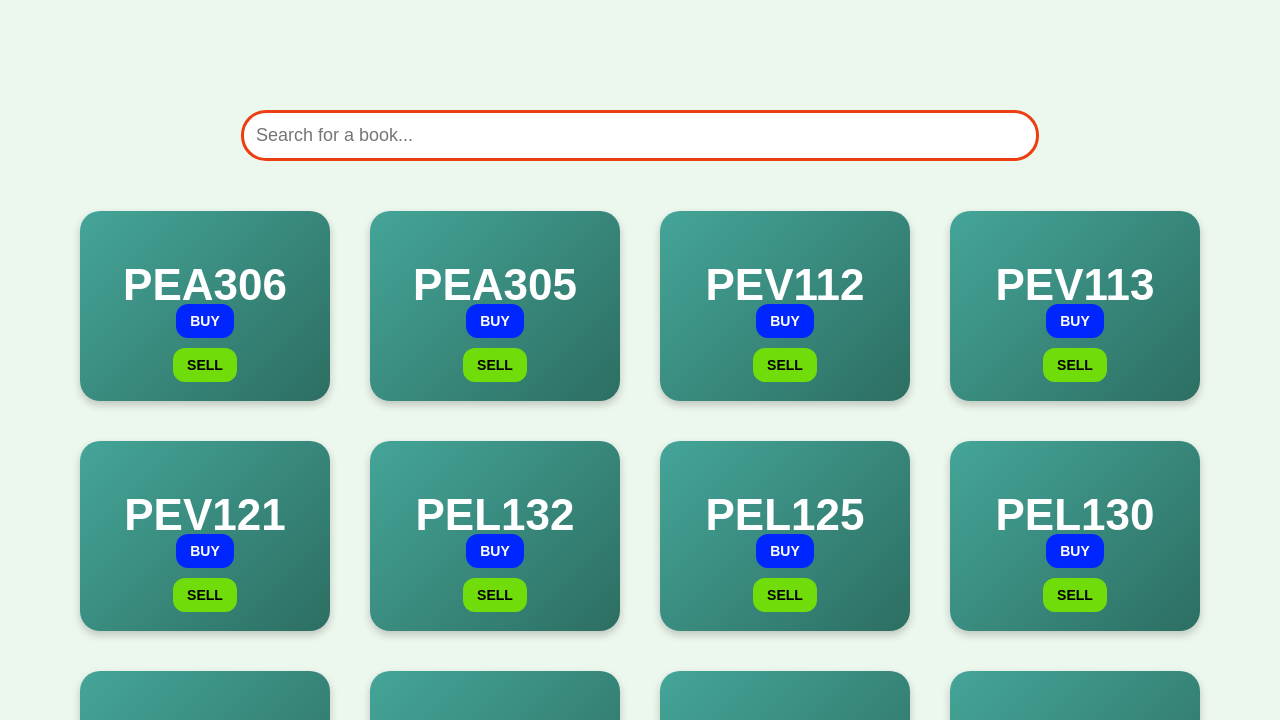
Test case: Body Component › submits user details and stores transaction data
Click the button "BUY" next to "PEA306" at x=205, y=321, box x1=176 y1=304 x2=234 y2=338
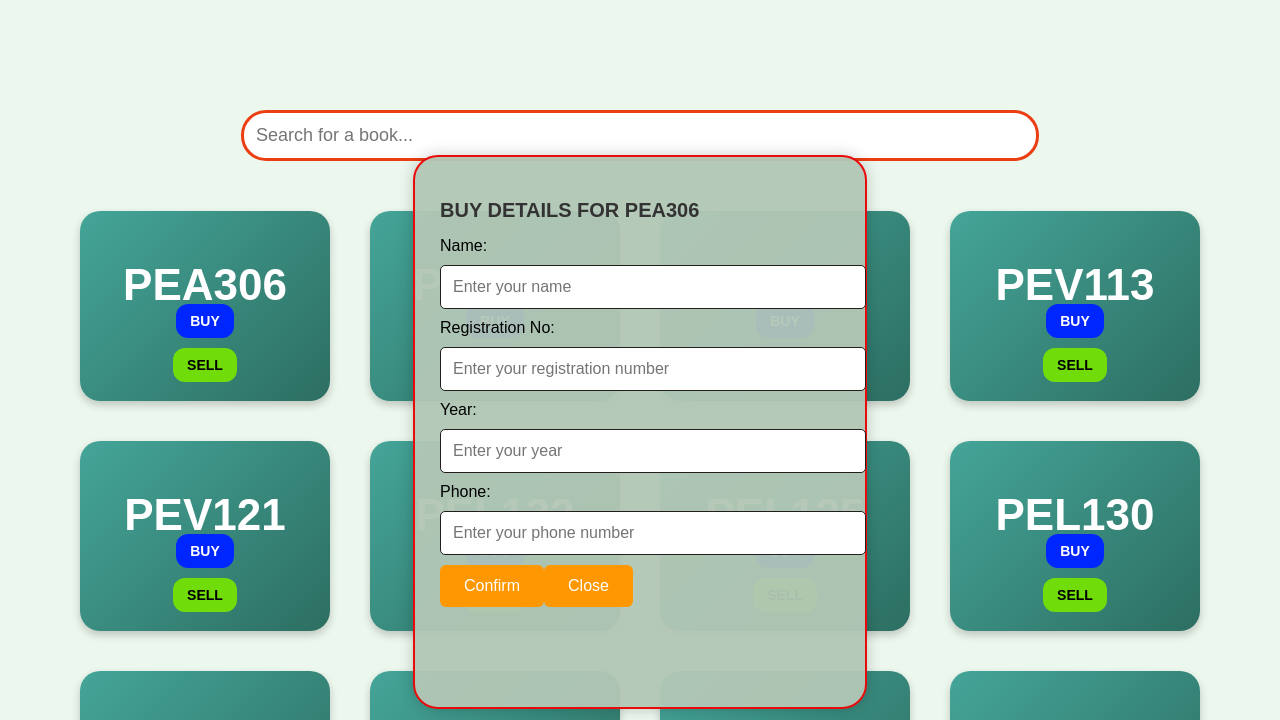
Note: Fill user input fields
Type "John Doe" into the field with placeholder "Enter your name" at x=653, y=287, box x1=440 y1=265 x2=866 y2=309
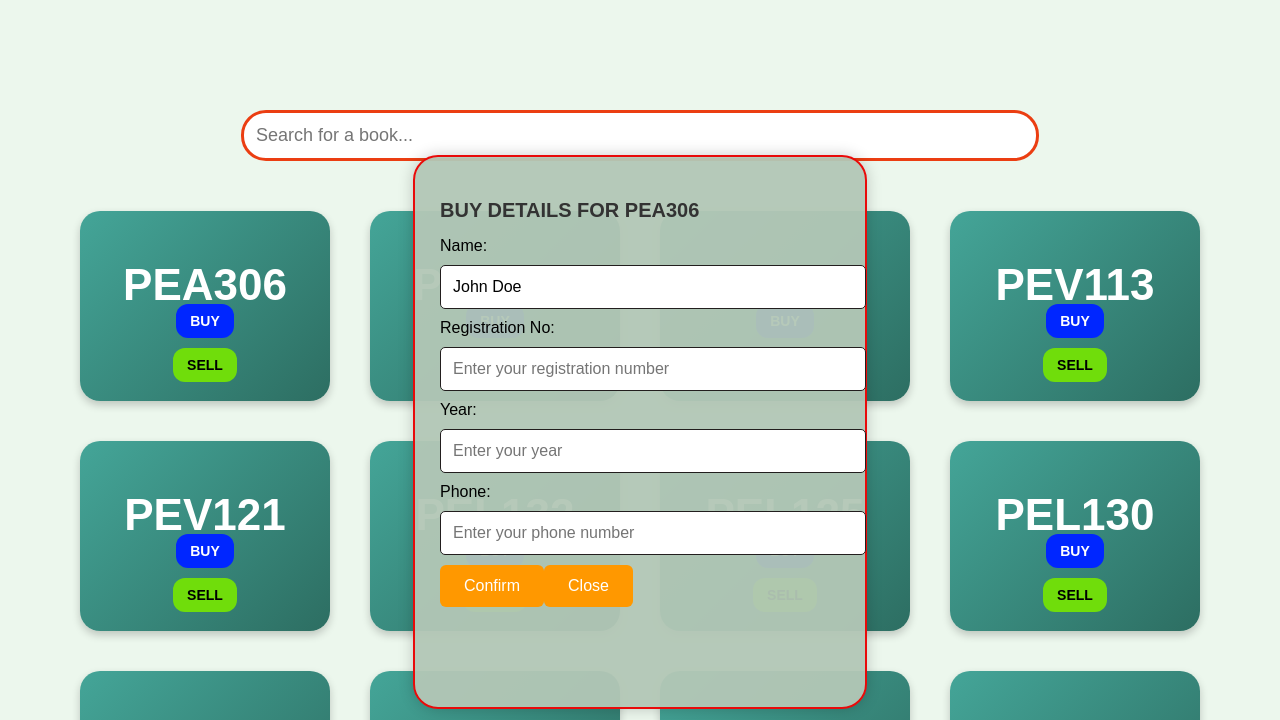
Type "12345" into the field with placeholder "Enter your registration number" at x=653, y=369, box x1=440 y1=347 x2=866 y2=391
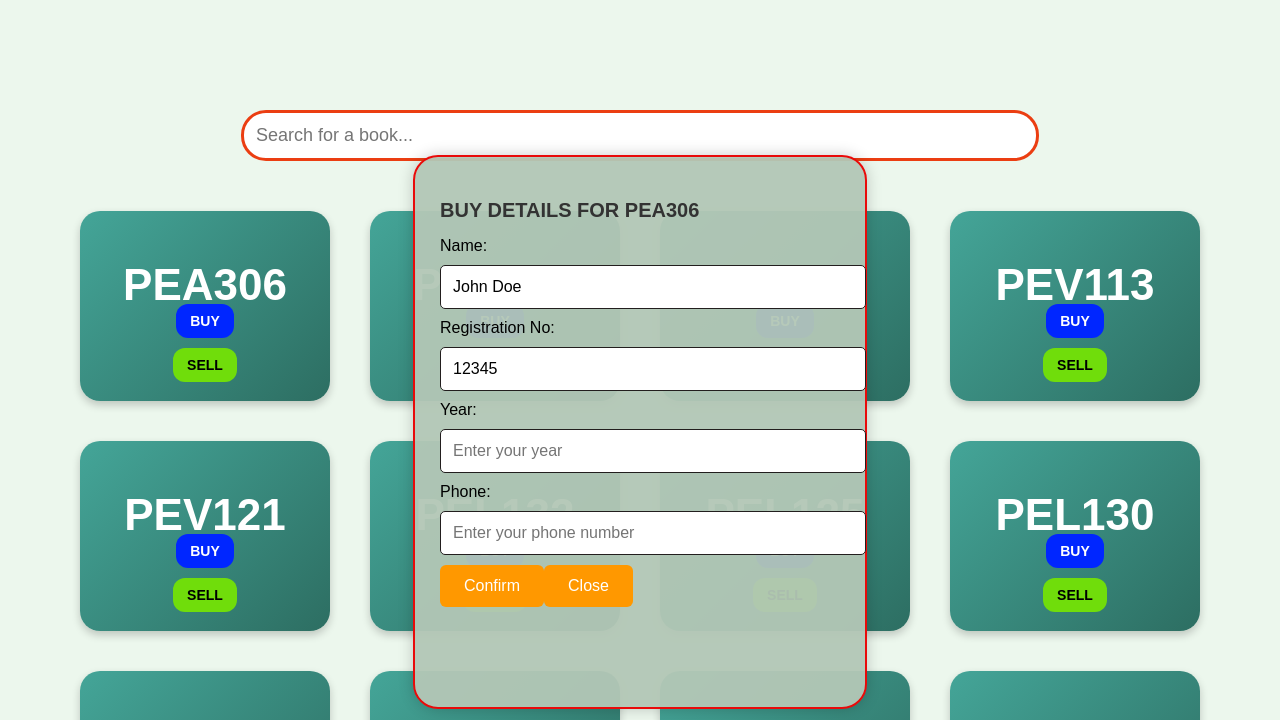
Type "3" into the field with placeholder "Enter your year" at x=653, y=451, box x1=440 y1=429 x2=866 y2=473
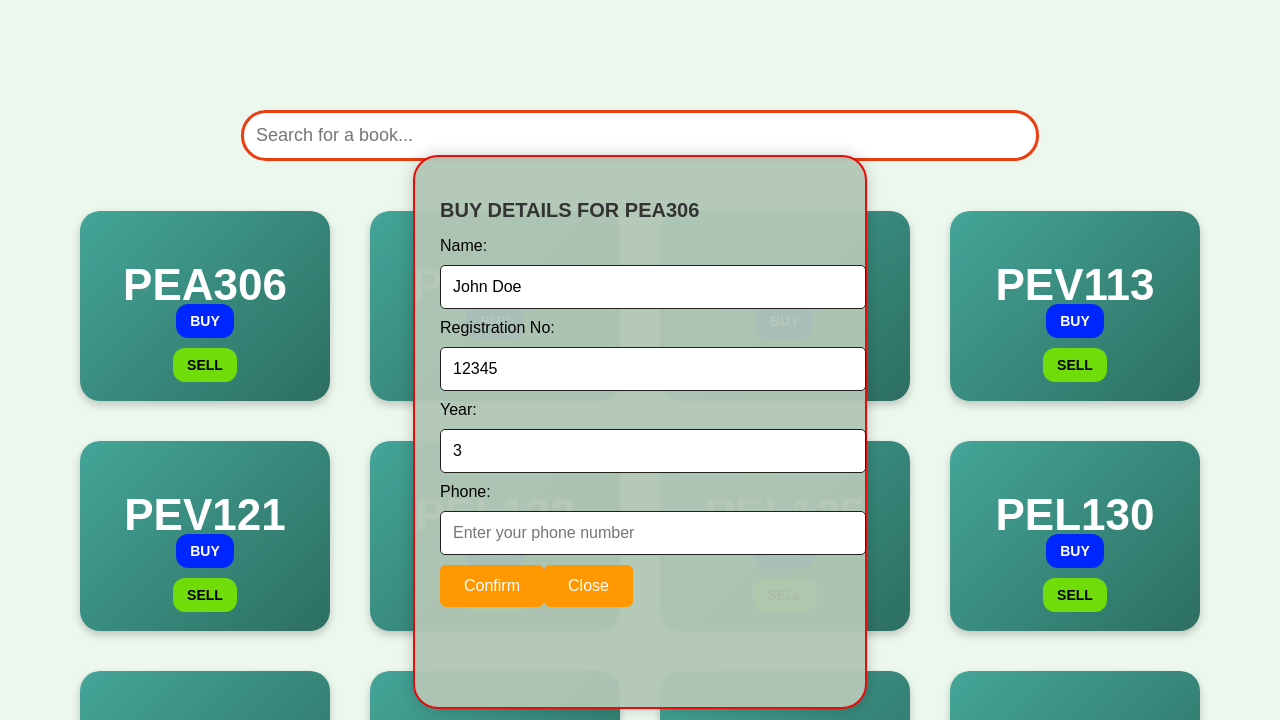
Type "9876543210" into the field with placeholder "Enter your phone number" at x=653, y=533, box x1=440 y1=511 x2=866 y2=555
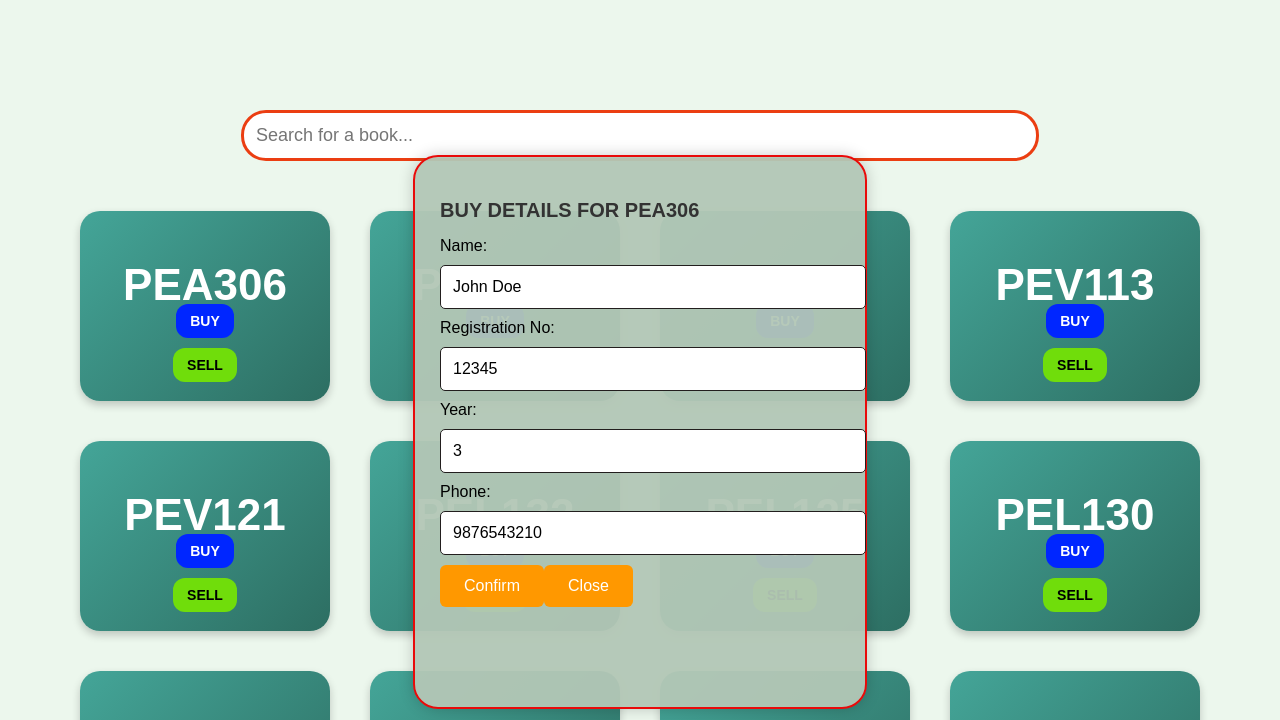
Click the button "Confirm" at x=492, y=586, box x1=440 y1=565 x2=544 y2=607
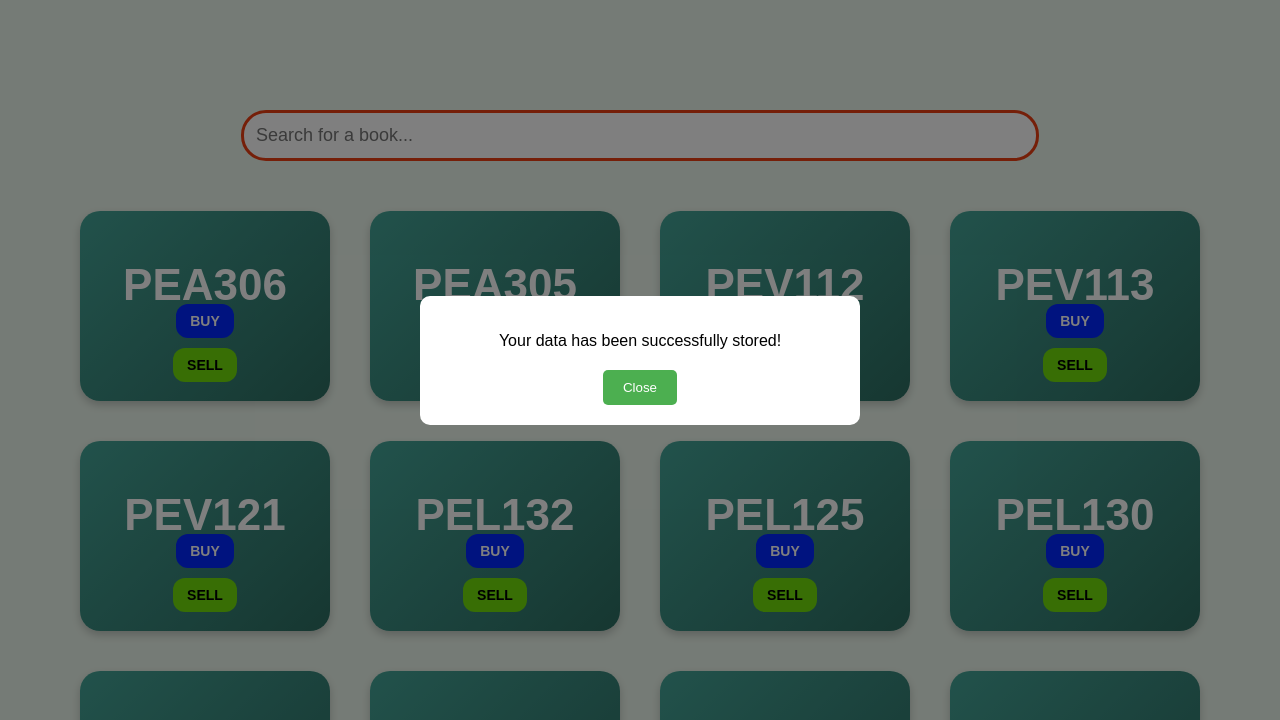
Result: the text "Your data has been successfully stored!" is shown at x1=499 y1=332 x2=781 y2=348
